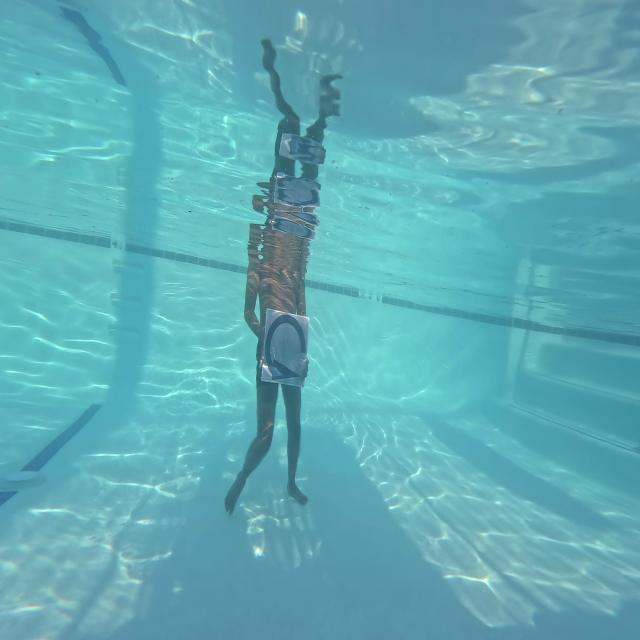blue_side: (262, 300, 310, 391)
